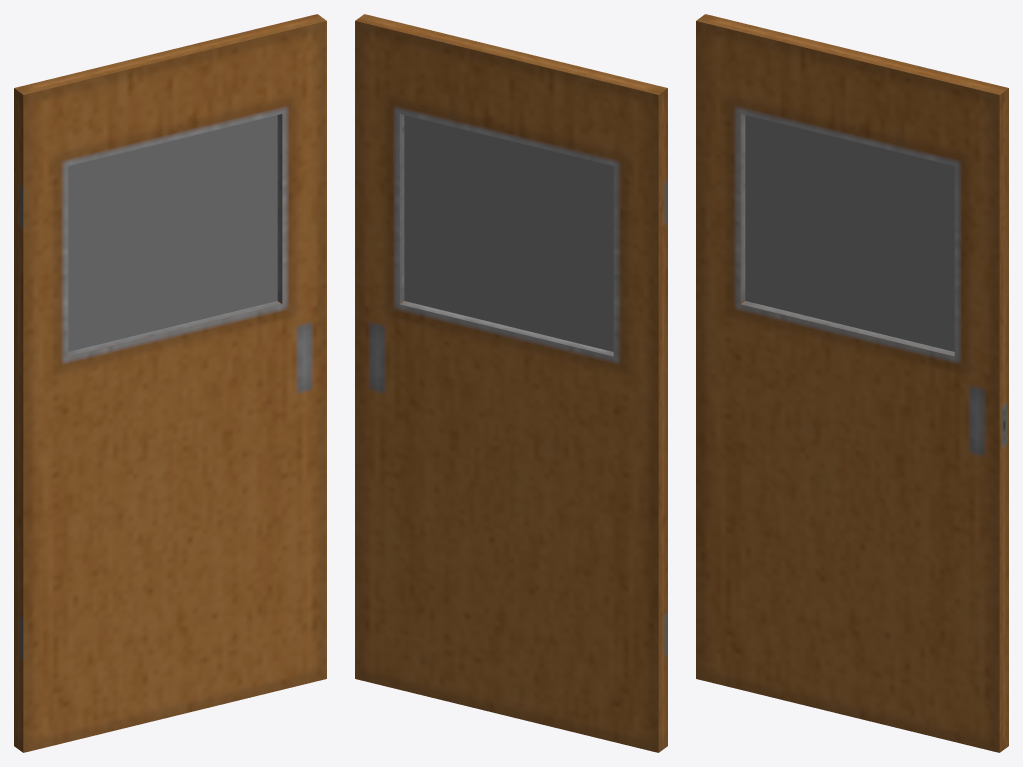
Rendered from door.glb.
3 renders of one model, left to right at view 1: azimuth 30°, elevation 25°; view 2: azimuth 150°, elevation 25°; view 3: azimuth 330°, elevation 25°, orthographic.
Visible parts, largest first — view 1: Door_01_Window_A; view 2: Door_01_Window_A; view 3: Door_01_Window_A.
Part boxes in pixels (x1,y1,x2,y2): Door_01_Window_A: (14,14,326,752); Door_01_Window_A: (355,14,667,752); Door_01_Window_A: (696,14,1008,752).
Bounding box in the file's own units: 1.12 × 2.32 × 0.06.
2 materials, 1 textured.
